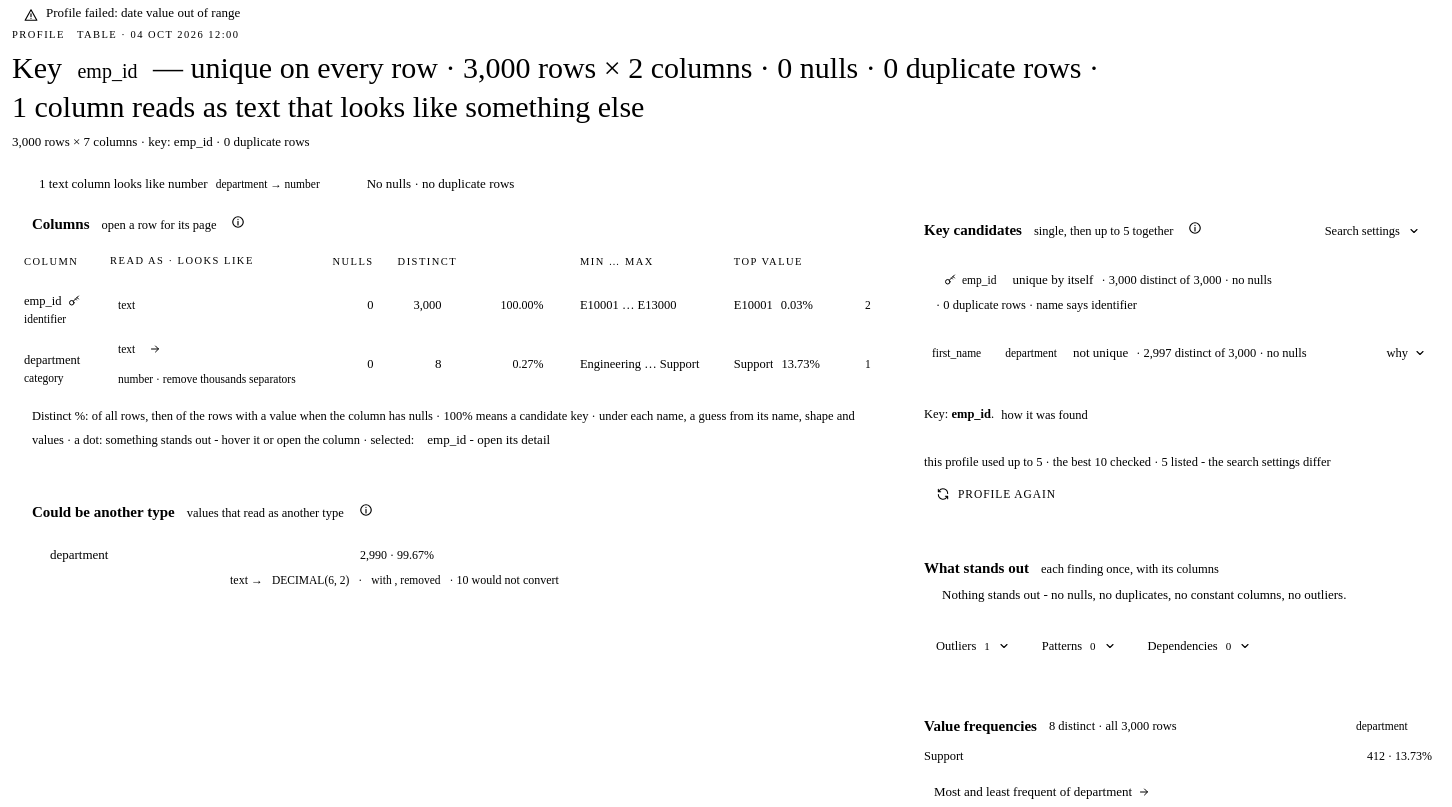
it: key candidates: the winner in its box, the others one line with a why fold; an all-zero matrix is one line
expect the text "not unique" is shown: met, box [1073, 345, 1128, 361]
expect the text "a name, not an identifier" is not shown: met
Click the button with aria-label "why - first_name + department".
click(1406, 353)  # box [1380, 337, 1432, 369]
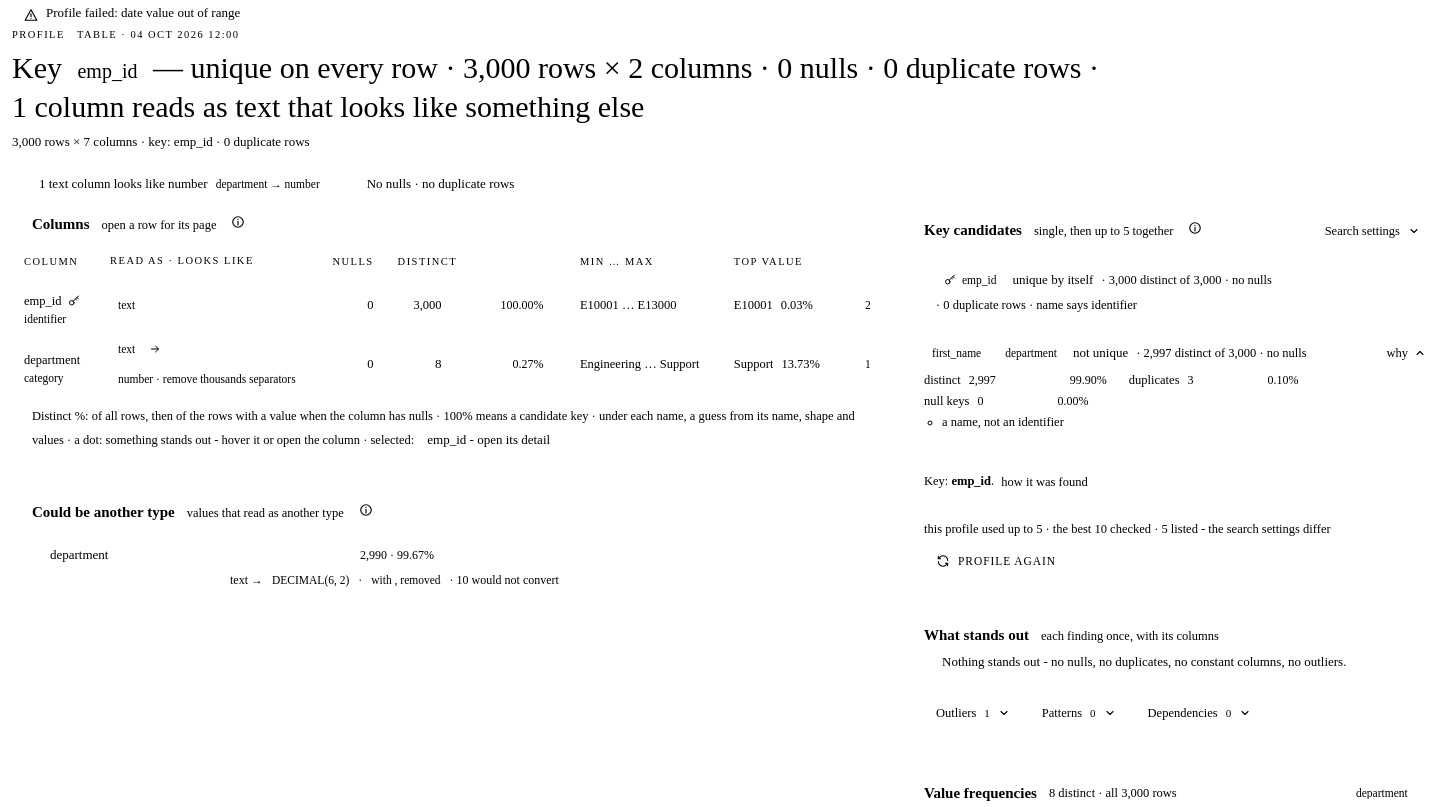
expect the list item "a name, not an identifier" is shown: met, box [942, 415, 1064, 429]
expect the text "duplicates" is shown: met, box [1129, 373, 1180, 387]
Click the button "Dependencies 0".
click(1199, 713)  # box [1136, 696, 1263, 730]
(page scrolled)
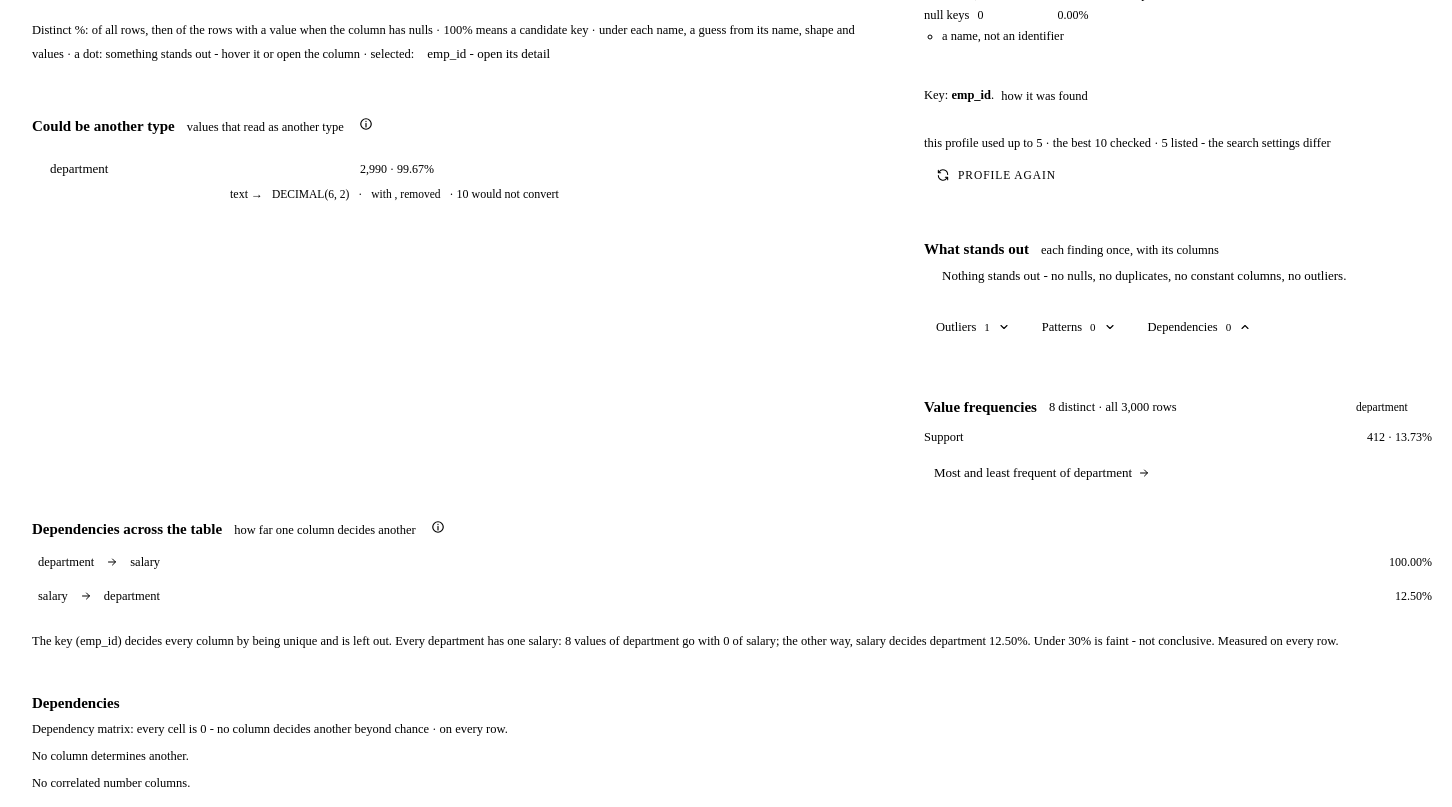
expect the text "Dependency matrix: every cell is 0" shows "· on every row.": met, box [32, 722, 508, 736]
